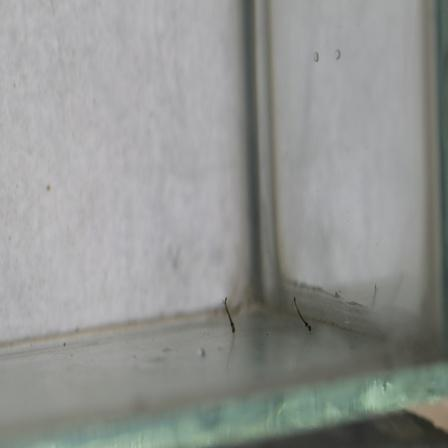Jentik-Nyamuk: (289, 292, 315, 334), (217, 294, 239, 334)
